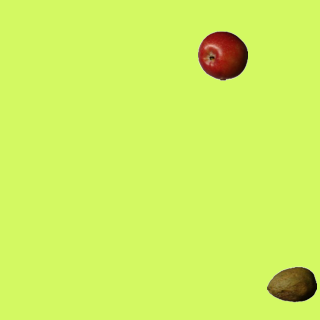Apple Braeburn: (197, 30, 247, 80)
Papaya: (266, 259, 316, 309)
